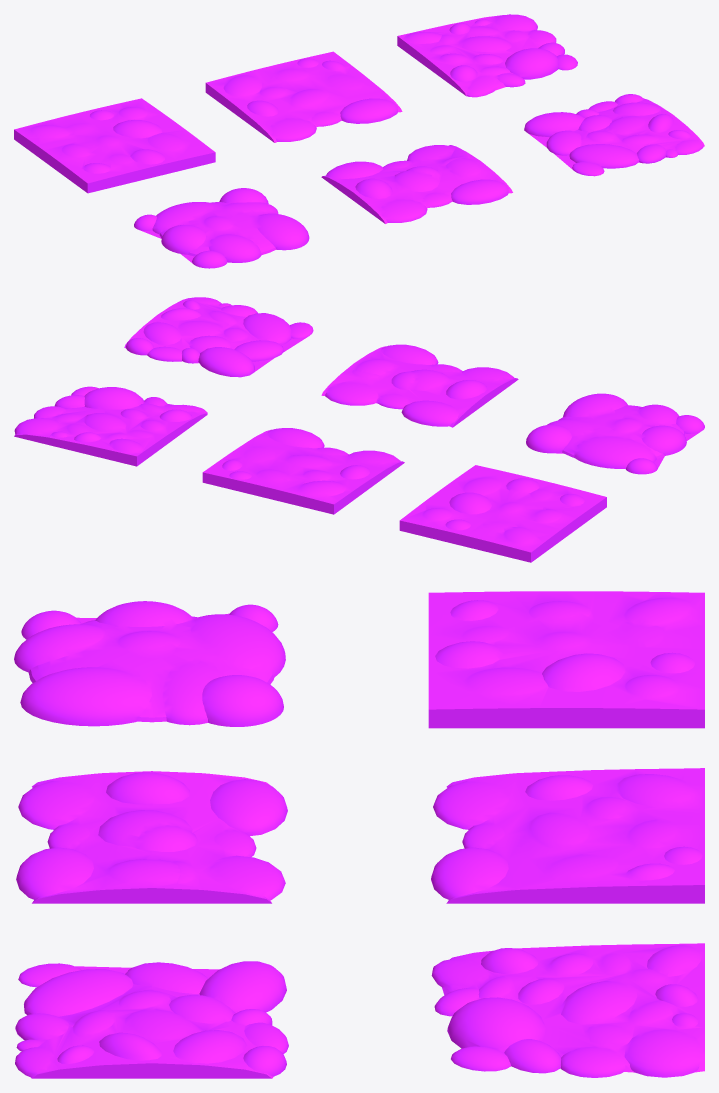
The model's file is GooTiles.fbx.
3 views of the same model, one above another, from view 1: azimuth 30°, elevation 25°; view 2: azimuth 150°, elevation 25°; view 3: azimuth 270°, elevation 25° (orthographic). The views are drawn at different scales.
Parts seen in each view (by area): view 1: GooMiddle, GooSide, GooCorner, GooNarrowEnd, GooNarrowMiddle, GooSingle; view 2: GooMiddle, GooSide, GooNarrowMiddle, GooNarrowEnd, GooCorner, GooSingle; view 3: GooMiddle, GooSide, GooCorner, GooNarrowMiddle, GooNarrowEnd, GooSingle.
Boxes of the visible parts, x1,y1,x2,y2 form: GooMiddle: (14,98,215,193); GooSide: (205,51,402,142); GooCorner: (397,14,577,97); GooNarrowEnd: (524,94,704,176); GooNarrowMiddle: (321,145,512,223); GooSingle: (134,188,309,268); GooMiddle: (399,465,606,562); GooSide: (202,428,404,514); GooNarrowMiddle: (321,344,518,427); GooNarrowEnd: (124,297,313,377); GooCorner: (14,386,207,466); GooSingle: (526,393,704,474); GooMiddle: (428,591,704,728); GooSide: (431,768,704,903); GooCorner: (431,943,704,1077); GooNarrowMiddle: (16,771,287,903); GooNarrowEnd: (15,961,288,1078); GooSingle: (14,601,285,726).
Bounding box in the file's own units: 400 × 13.41 × 250.
